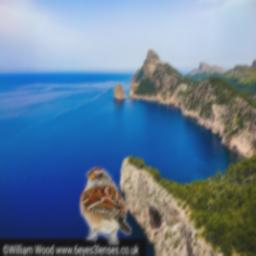Sparrow: (79, 167, 133, 245)
